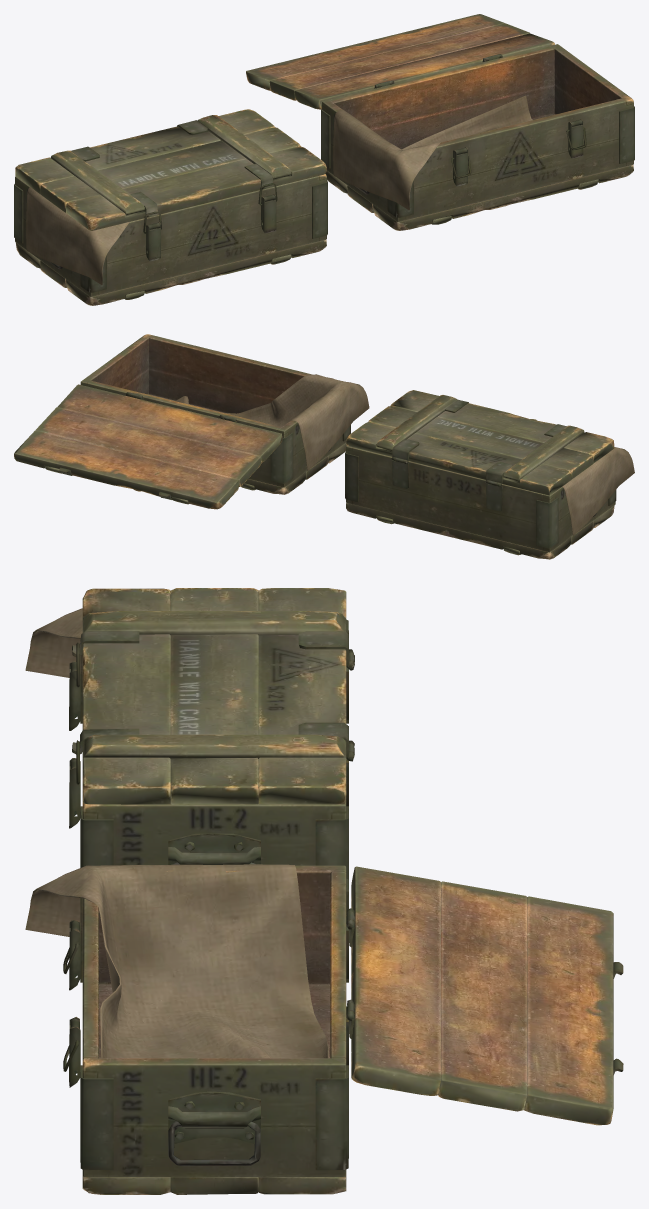
File: old_military_crate.glb
3 views of the same model, one above another, from view 1: azimuth 30°, elevation 25°; view 2: azimuth 150°, elevation 25°; view 3: azimuth 270°, elevation 25° (orthographic). The views are drawn at different scales.
Visible parts, largest first — view 1: old_military_crate_lid_a; view 2: old_military_crate_lid_a; view 3: old_military_crate_lid_a.
Part boxes in pixels (x1=…): old_military_crate_lid_a: x1=14, y1=14, x2=634, y2=305; old_military_crate_lid_a: x1=14, y1=334, x2=634, y2=559; old_military_crate_lid_a: x1=25, y1=588, x2=623, y2=1194.
Bounding box in the file's own units: 1.82 × 0.3009 × 0.9756.
1 material, 1 textured.
